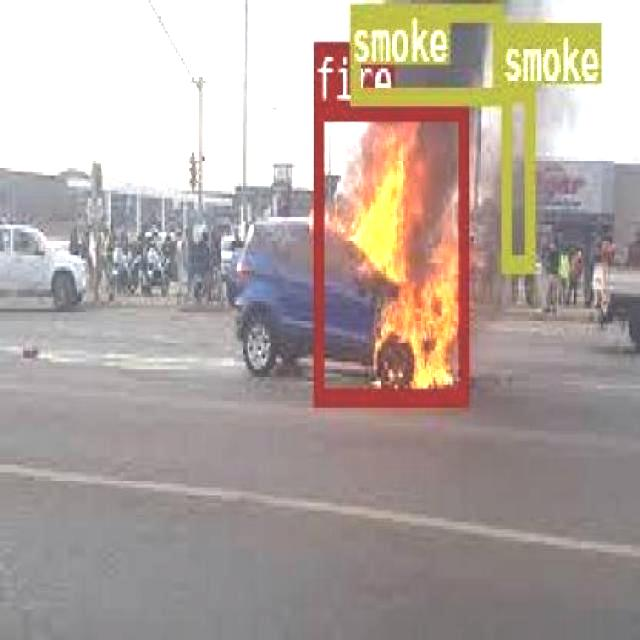fire: (312, 102, 466, 404)
smoke: (348, 2, 501, 100), (499, 82, 532, 267)
